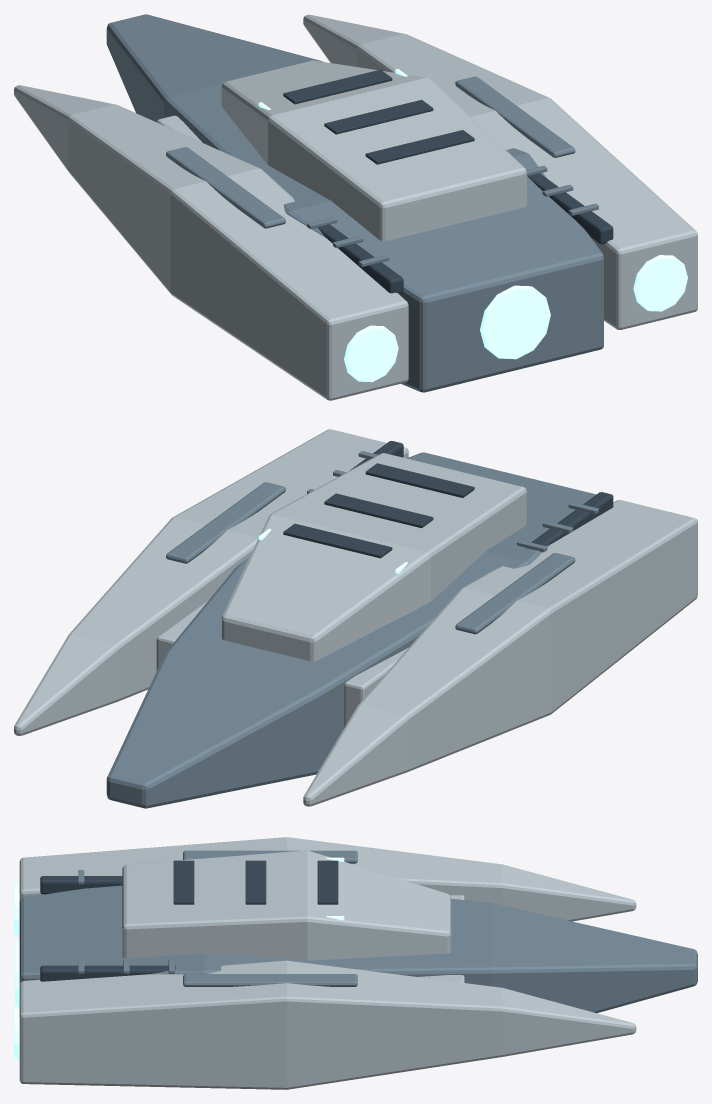
The model's file is CruiserWreck.fbx.
The picture shows the model from 3 angles, top to bottom: view 1: azimuth 30°, elevation 25°; view 2: azimuth 150°, elevation 25°; view 3: azimuth 270°, elevation 25°; orthographic projection. The views are drawn at different scales.
Visible parts, largest first — view 1: Piece_01.001, Piece_04.001, Piece_02.001, Piece_03.001, Piece_05.001, Piece_06.001; view 2: Piece_02.001, Piece_03.001, Piece_01.001, Piece_06.001, Piece_05.001, Piece_04.001; view 3: Piece_04.001, Piece_05.001, Piece_06.001, Piece_01.001, Piece_03.001, Piece_02.001.
Boxes of the visible parts, x1=… form: Piece_01.001: x1=201, y1=131, x2=516, y2=400; Piece_04.001: x1=391, y1=113, x2=697, y2=370; Piece_02.001: x1=102, y1=74, x2=390, y2=315; Piece_03.001: x1=14, y1=18, x2=278, y2=212; Piece_05.001: x1=279, y1=55, x2=578, y2=142; Piece_06.001: x1=129, y1=14, x2=453, y2=77; Piece_02.001: x1=279, y1=505, x2=580, y2=752; Piece_03.001: x1=126, y1=614, x2=455, y2=808; Piece_01.001: x1=392, y1=470, x2=697, y2=691; Piece_06.001: x1=14, y1=595, x2=278, y2=803; Piece_05.001: x1=103, y1=490, x2=384, y2=629; Piece_04.001: x1=203, y1=429, x2=511, y2=515; Piece_04.001: x1=14, y1=881, x2=235, y2=1088; Piece_05.001: x1=235, y1=881, x2=430, y2=1089; Piece_06.001: x1=430, y1=909, x2=697, y2=1067; Piece_01.001: x1=14, y1=841, x2=235, y2=943; Piece_03.001: x1=430, y1=855, x2=697, y2=960; Piece_02.001: x1=235, y1=837, x2=430, y2=908.
Size of the model in its own units: 18.7 by 8.01 by 33.27.
